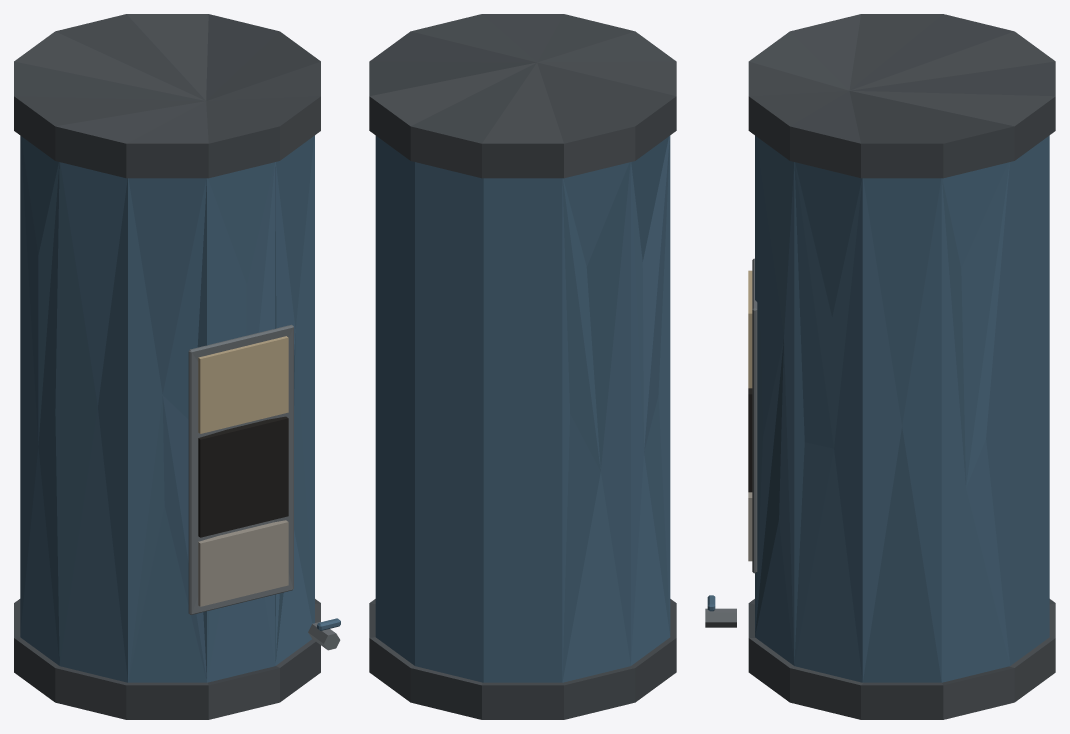
File: water_purifier_ugolnyy_filtr_idle.glb
3 renders of one model, left to right at view 1: azimuth 30°, elevation 25°; view 2: azimuth 150°, elevation 25°; view 3: azimuth 270°, elevation 25°, orthographic.
Visible parts, largest first — view 1: water_purifier_ugolnyy_filtr_idle; view 2: water_purifier_ugolnyy_filtr_idle; view 3: water_purifier_ugolnyy_filtr_idle.
Boxes of the visible parts, x1,y1,x2,y2 form: water_purifier_ugolnyy_filtr_idle: (14,14,340,719); water_purifier_ugolnyy_filtr_idle: (369,14,676,719); water_purifier_ugolnyy_filtr_idle: (705,14,1055,719).
Size of the model in its own units: 0.483 by 1 by 0.5515.
1 material, 1 textured.
